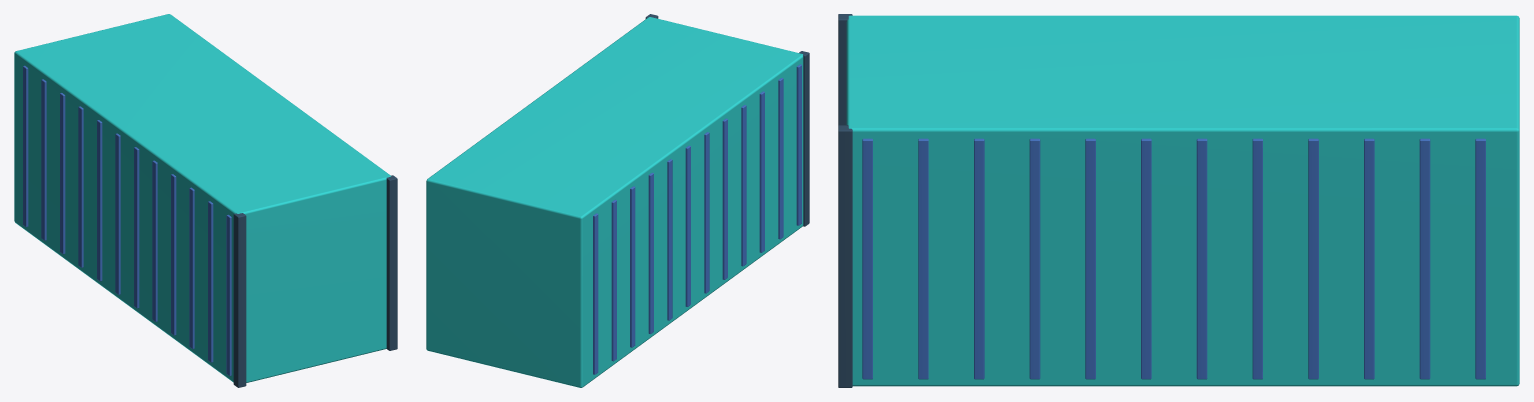
Rendered from HL_Container_Dock.fbx.
The picture shows the model from 3 angles, left to right: view 1: azimuth 30°, elevation 25°; view 2: azimuth 150°, elevation 25°; view 3: azimuth 270°, elevation 25°; orthographic projection. The views are drawn at different scales.
Visible parts, largest first — view 1: Container | teal body, Container | front corner, Container | front corner.001, Container | side corrugation.020, Container | side corrugation.008, Container | side corrugation.010, Container | side corrugation.014, Container | side corrugation.016, Container | side corrugation.002, Container | side corrugation.004, Container | side corrugation.012, Container | side corrugation.022 (+3 smaller); view 2: Container | teal body, Container | front corner, Container | side corrugation.004, Container | side corrugation.010, Container | side corrugation.014, Container | side corrugation.022, Container | side corrugation, Container | side corrugation.002, Container | side corrugation.006, Container | side corrugation.008, Container | side corrugation.016, Container | side corrugation.018 (+2 smaller); view 3: Container | teal body, Container | front corner.001, Container | side corrugation.021, Container | side corrugation.007, Container | side corrugation.013, Container | side corrugation.001, Container | side corrugation.005, Container | side corrugation.015, Container | side corrugation.023, Container | side corrugation.003, Container | side corrugation.009, Container | side corrugation.011 (+3 smaller).
Boxes of the visible parts, bbox=[...] form: Container | teal body: bbox=[14, 14, 390, 382]; Container | front corner: bbox=[233, 213, 246, 387]; Container | front corner.001: bbox=[386, 175, 397, 350]; Container | side corrugation.020: bbox=[41, 79, 46, 240]; Container | side corrugation.008: bbox=[152, 160, 157, 321]; Container | side corrugation.010: bbox=[134, 147, 139, 308]; Container | side corrugation.014: bbox=[97, 120, 102, 281]; Container | side corrugation.016: bbox=[78, 106, 83, 267]; Container | side corrugation.002: bbox=[208, 201, 213, 362]; Container | side corrugation.004: bbox=[189, 187, 194, 348]; Container | side corrugation.012: bbox=[115, 133, 120, 294]; Container | side corrugation.022: bbox=[23, 65, 28, 226]; Container | teal body: bbox=[426, 17, 803, 387]; Container | front corner: bbox=[799, 51, 809, 226]; Container | side corrugation.004: bbox=[759, 91, 764, 252]; Container | side corrugation.010: bbox=[704, 132, 709, 293]; Container | side corrugation.014: bbox=[667, 159, 672, 320]; Container | side corrugation.022: bbox=[593, 213, 598, 374]; Container | side corrugation: bbox=[796, 64, 801, 225]; Container | side corrugation.002: bbox=[778, 78, 783, 239]; Container | side corrugation.006: bbox=[741, 105, 746, 266]; Container | side corrugation.008: bbox=[722, 118, 727, 279]; Container | side corrugation.016: bbox=[648, 172, 653, 333]; Container | side corrugation.018: bbox=[630, 186, 635, 347]; Container | teal body: bbox=[846, 15, 1519, 386]; Container | front corner.001: bbox=[838, 125, 852, 387]; Container | side corrugation.021: bbox=[1419, 138, 1430, 379]; Container | side corrugation.007: bbox=[1029, 138, 1040, 379]; Container | side corrugation.013: bbox=[1196, 138, 1207, 379]; Container | side corrugation.001: bbox=[862, 138, 872, 379]; Container | side corrugation.005: bbox=[974, 138, 984, 379]; Container | side corrugation.015: bbox=[1252, 138, 1262, 379]; Container | side corrugation.023: bbox=[1475, 138, 1485, 379]; Container | side corrugation.003: bbox=[918, 138, 928, 379]; Container | side corrugation.009: bbox=[1085, 138, 1095, 379]; Container | side corrugation.011: bbox=[1141, 138, 1151, 379].
Bounding box in the file's own units: 251 × 256 × 612.
